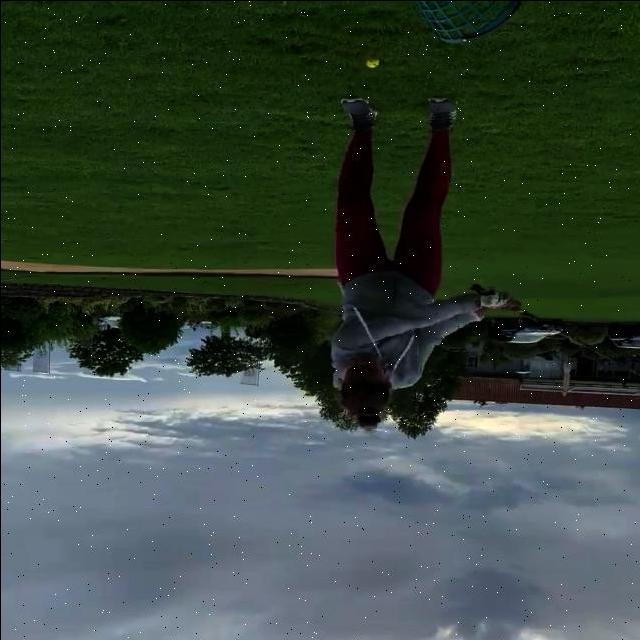ClubHandle: (469, 284, 640, 373)
GolfBall: (364, 58, 378, 68)
